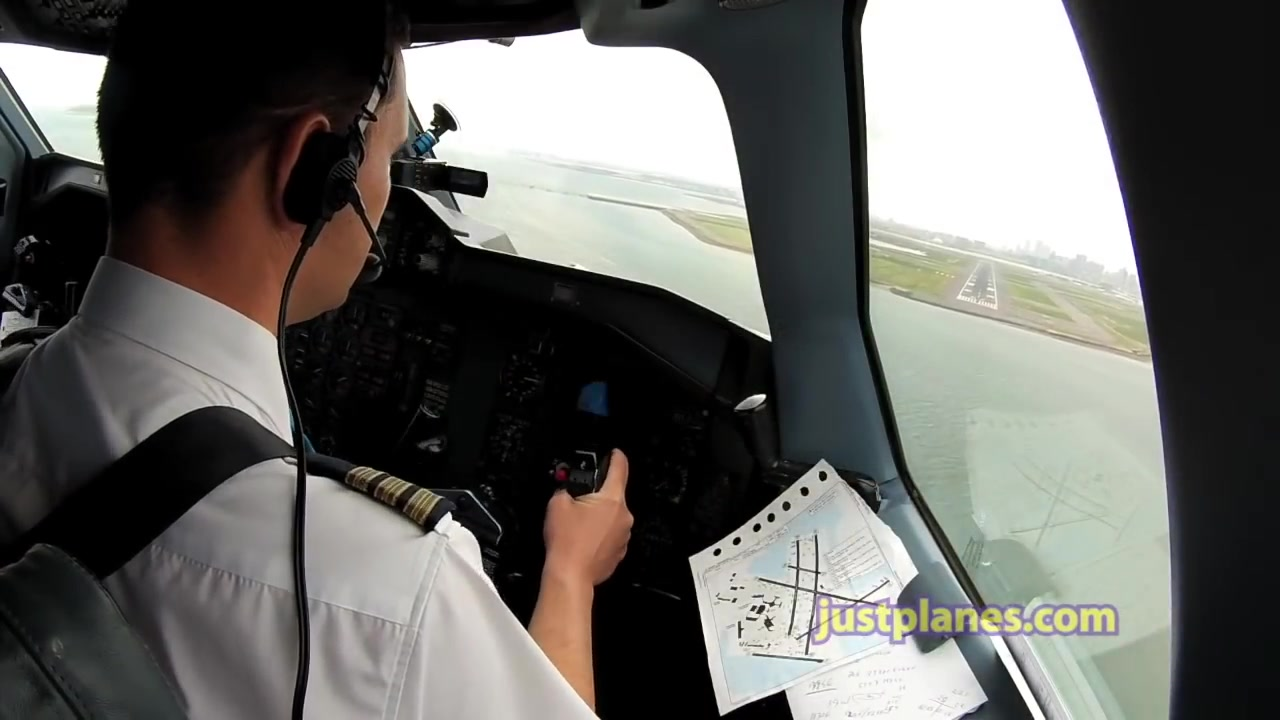entrance: (957, 294, 995, 309)
runway: (956, 260, 999, 311)
